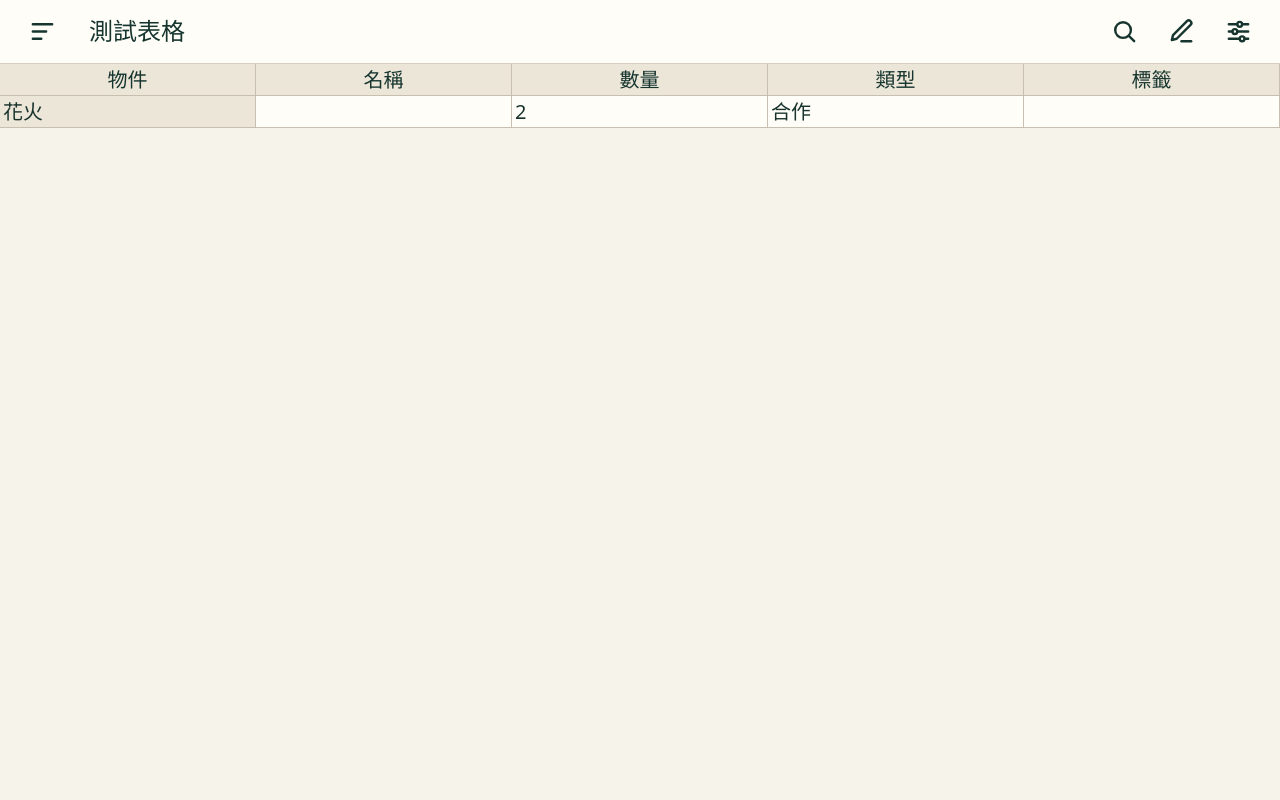
Test: WorkspacePage.selection › commits a text dialog by clicking beside it without changing table widths
Step 1. Click the cell named "花火，名稱：空白" → point(384, 112), box left=256, top=96, right=512, bottom=128
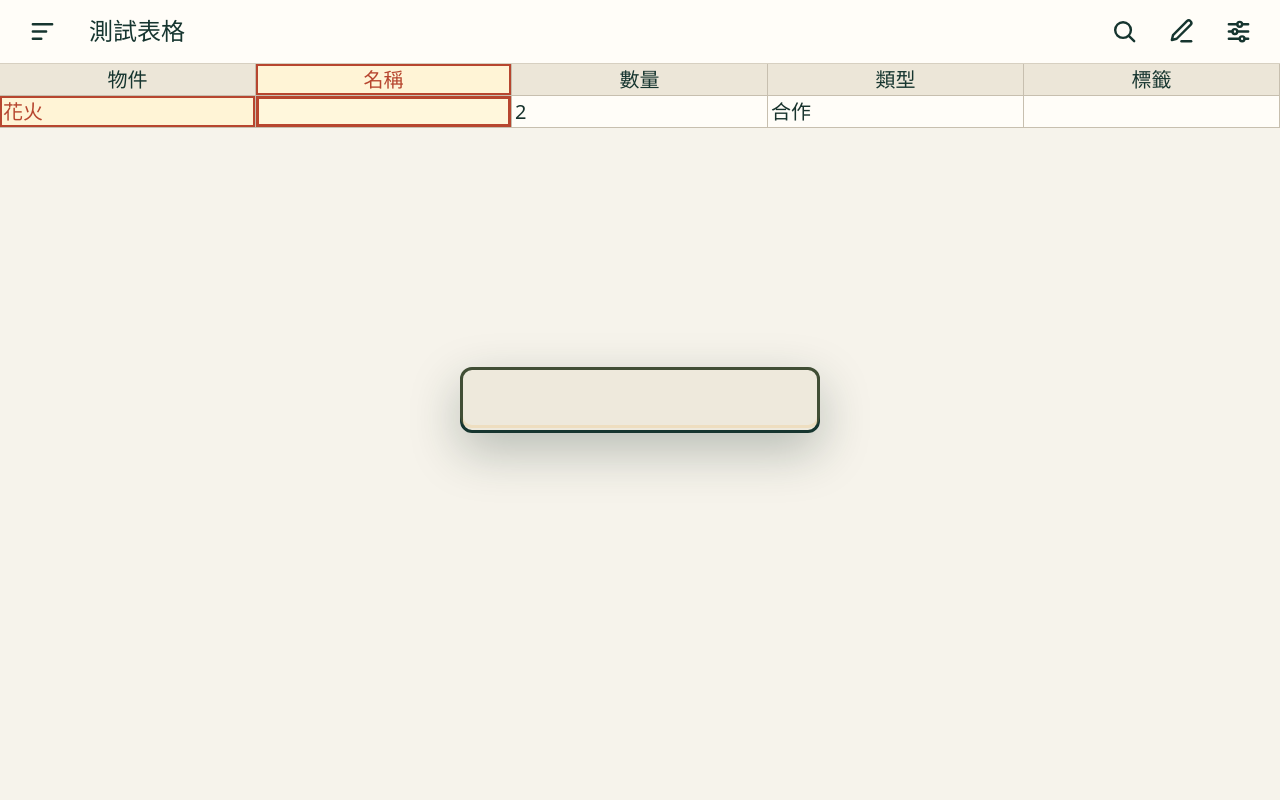
Step 2. Type "new value" into the text box → point(640, 398), box left=463, top=370, right=817, bottom=425
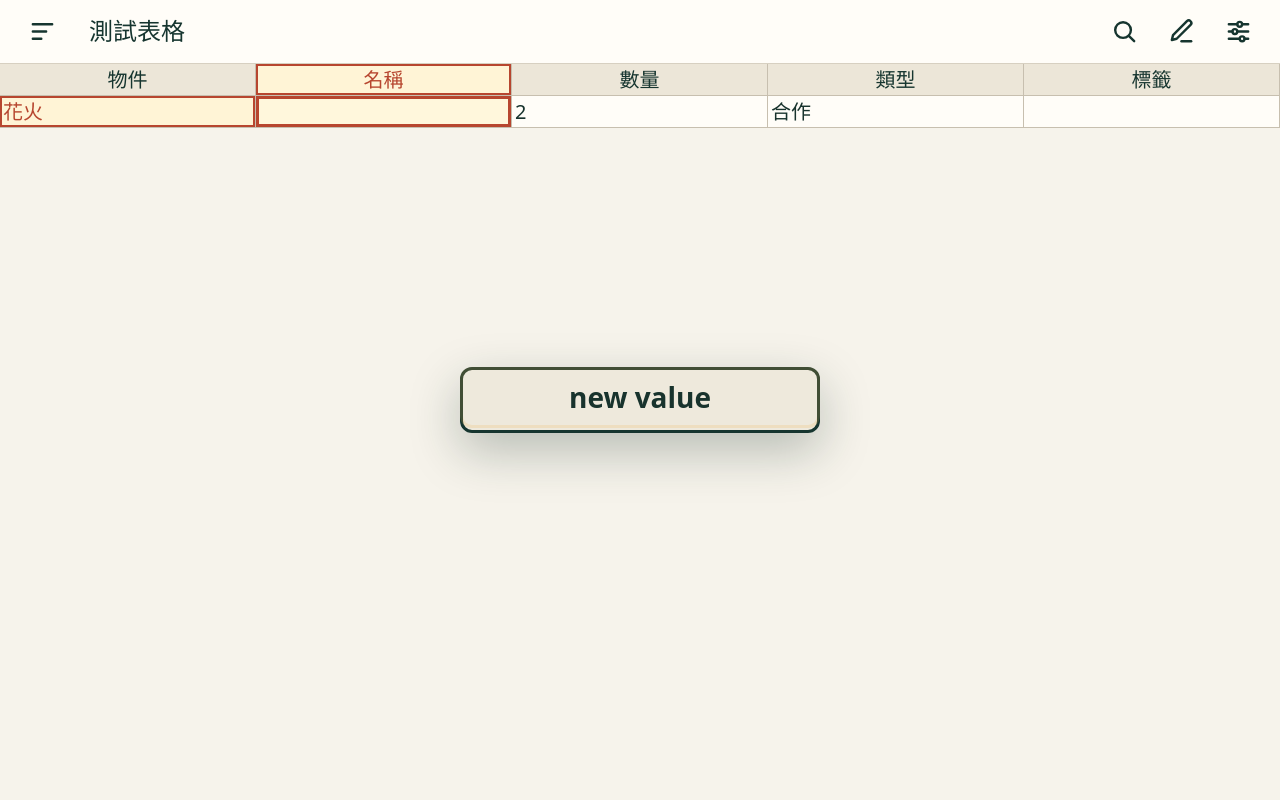
Step 3. Click the element with class "workspace-value-dialog-overlay" → point(640, 400), box left=460, top=367, right=820, bottom=433
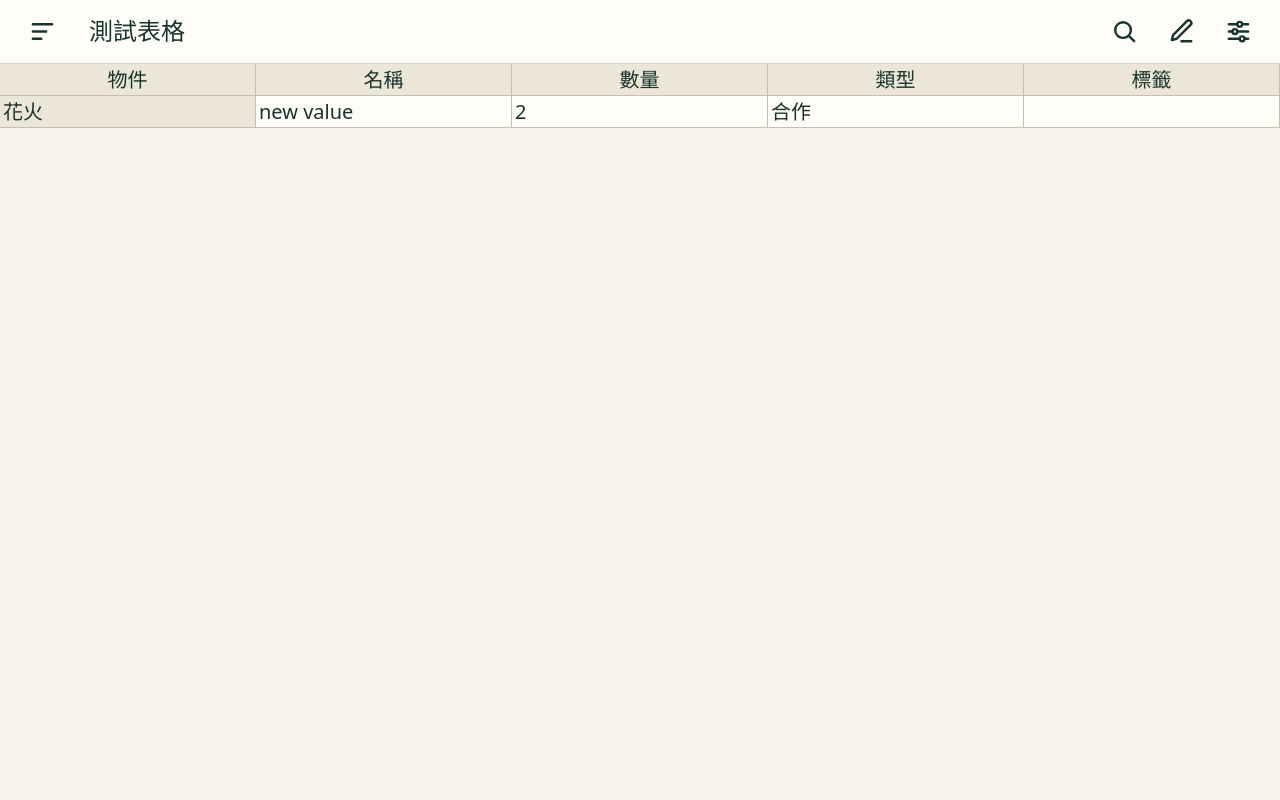
Now the dialog is gone
Now the text "new value" is shown, box left=259, top=98, right=353, bottom=125
